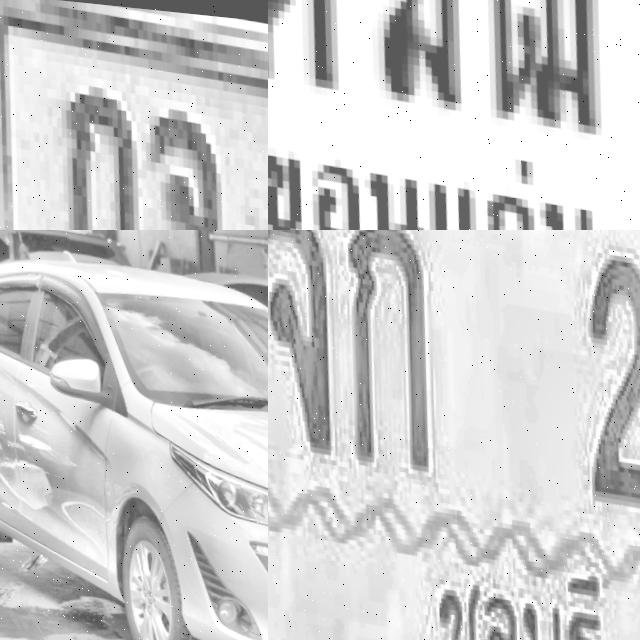license-plate: (268, 230, 640, 640), (268, 0, 640, 230), (0, 0, 268, 230)
